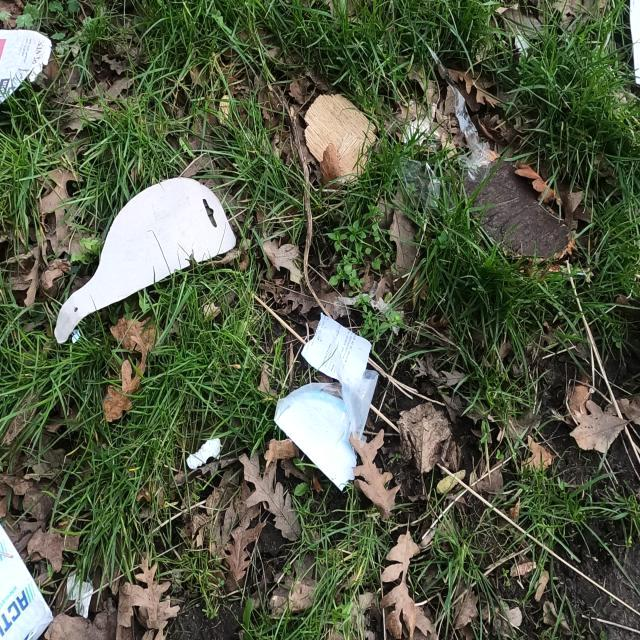Paper: (274, 382, 364, 492), (0, 520, 54, 639), (300, 310, 372, 392), (0, 27, 52, 99), (185, 436, 222, 469)
